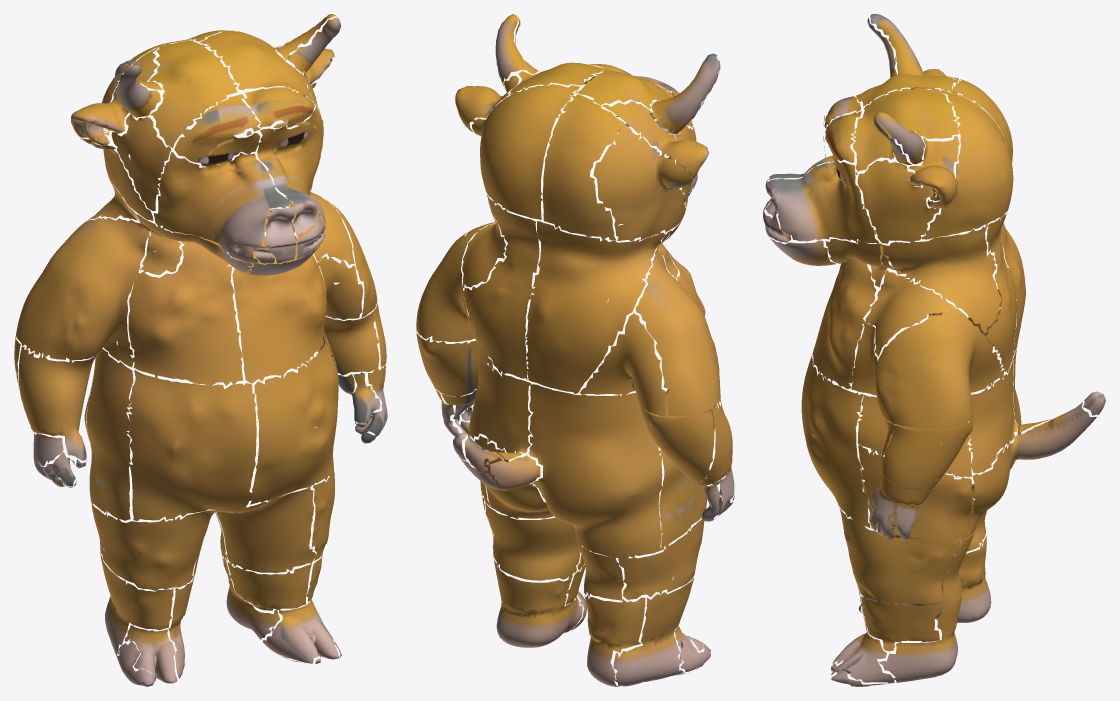
The model's file is niulai-bull.glb.
3 renders of one model, left to right at view 1: azimuth 30°, elevation 25°; view 2: azimuth 150°, elevation 25°; view 3: azimuth 270°, elevation 25°, orthographic. The views are drawn at different scales.
Visible parts, largest first — view 1: tripo_node_f2e793ef-0320-4ac1-9198-840aff2078e2; view 2: tripo_node_f2e793ef-0320-4ac1-9198-840aff2078e2; view 3: tripo_node_f2e793ef-0320-4ac1-9198-840aff2078e2.
Part boxes in pixels (box(x1,y1,x2,y2)): tripo_node_f2e793ef-0320-4ac1-9198-840aff2078e2: box(14, 14, 387, 686); tripo_node_f2e793ef-0320-4ac1-9198-840aff2078e2: box(416, 14, 734, 686); tripo_node_f2e793ef-0320-4ac1-9198-840aff2078e2: box(763, 14, 1105, 686).
Size of the model in its own units: 0.5436 by 0.9989 by 0.5275.
1 material, 1 textured.
